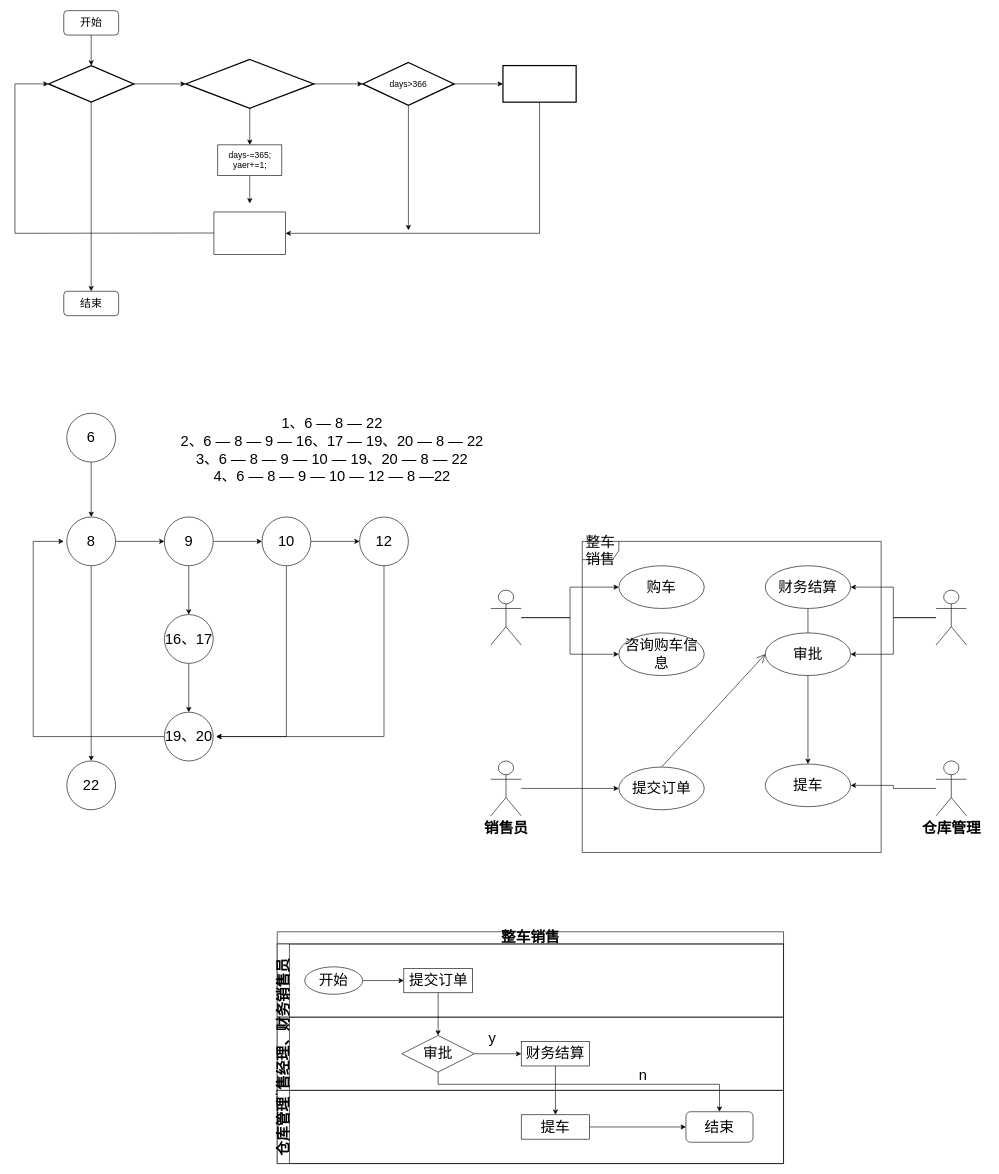
Image size: 999x1174. Some labels were removed from this diagram. The centre of each missing label's shape, as x and y in pixels:
AddDay.day s=days; AddDay.year =year;: the point at 249,233
DateTime.isLeapYear(year): the point at 249,84
days-=366; year+=1;: the point at 539,83
days>365: the point at 91,83
客户: the point at 505,617
经理、财务: the point at 951,617
